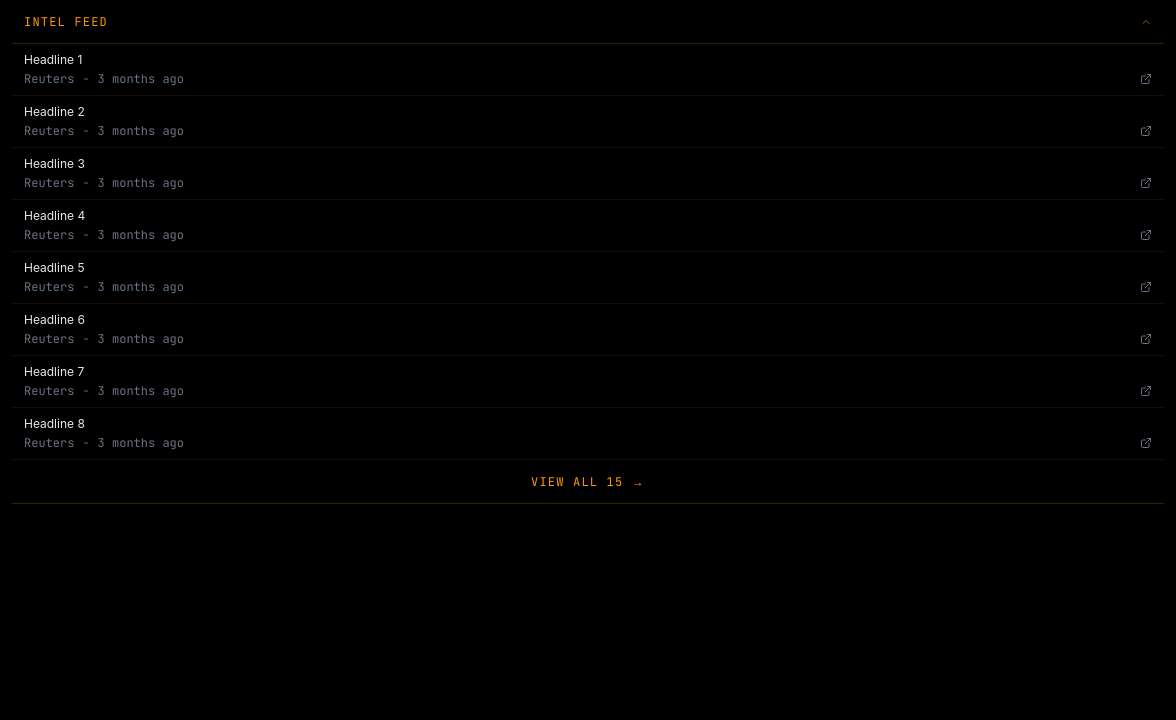
Scenario: NewsPanel › reveals the rest when the expand control is used
The image size is (1176, 720).
Expected: the text "Headline 1" is shown, left=24, top=52, right=82, bottom=67
Click the button "View all 15 →". click: x=588, y=482
box: left=12, top=460, right=1164, bottom=504
(page scrolled)
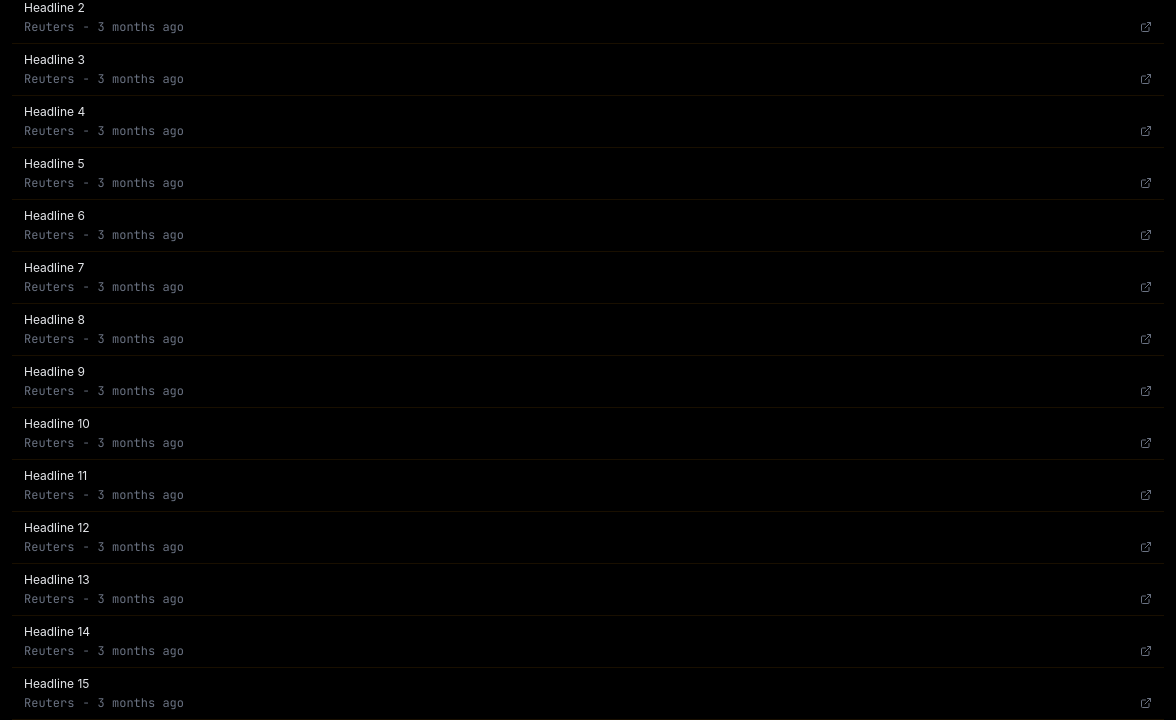
Now the number of links is 15
Now the text "Headline 15" is shown, box left=24, top=676, right=89, bottom=691
